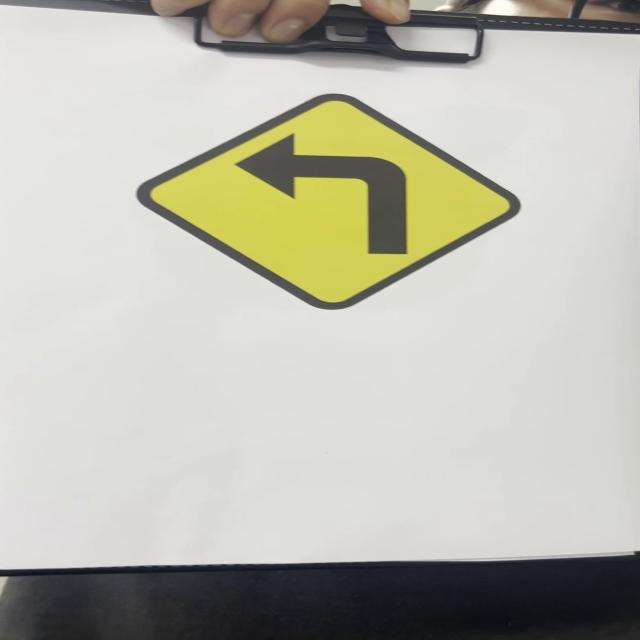left: (136, 91, 524, 311)
